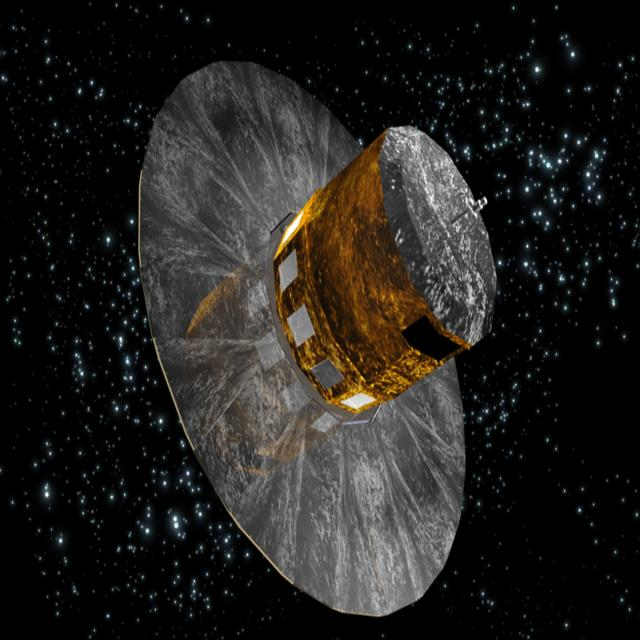satellite: (123, 49, 515, 630)
